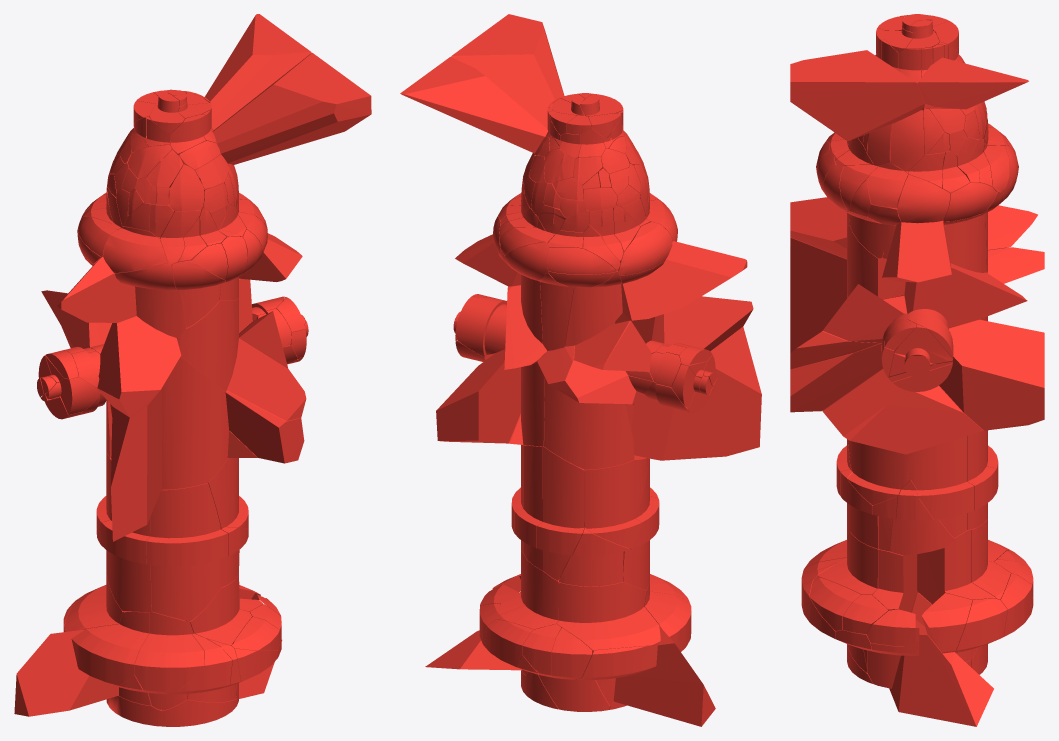
The model's file is FireHydrantCellFracture.fbx.
3 renders of one model, left to right at view 1: azimuth 30°, elevation 25°; view 2: azimuth 150°, elevation 25°; view 3: azimuth 270°, elevation 25°, orthographic. The views are drawn at different scales.
Visible parts, largest first — view 1: FireHyrdrant_cell.087, FireHyrdrant_cell.028, FireHyrdrant_cell.067, FireHyrdrant_cell.190, FireHyrdrant_cell.183, FireHyrdrant_cell.144, FireHyrdrant_cell.181, FireHyrdrant_cell.008, FireHyrdrant_cell.142, FireHyrdrant_cell.041, FireHyrdrant_cell.117, FireHyrdrant_cell.105 (+38 smaller); view 2: FireHyrdrant_cell.190, FireHyrdrant_cell.087, FireHyrdrant_cell.144, FireHyrdrant_cell.011, FireHyrdrant_cell.044, FireHyrdrant_cell.009, FireHyrdrant_cell.178, FireHyrdrant_cell.181, FireHyrdrant_cell.168, FireHyrdrant_cell.176, FireHyrdrant_cell.183, FireHyrdrant_cell.012 (+37 smaller); view 3: FireHyrdrant_cell.044, FireHyrdrant_cell.087, FireHyrdrant_cell.119, FireHyrdrant_cell.065, FireHyrdrant_cell.190, FireHyrdrant_cell.046, FireHyrdrant_cell.063, FireHyrdrant_cell.124, FireHyrdrant_cell.144, FireHyrdrant_cell.022, FireHyrdrant_cell.127, FireHyrdrant_cell.131 (+56 smaller).
Part boxes in pixels (x1,y1,x2,y2): FireHyrdrant_cell.087: (212, 53, 371, 164); FireHyrdrant_cell.028: (146, 483, 227, 621); FireHyrdrant_cell.067: (162, 357, 229, 489); FireHyrdrant_cell.190: (111, 388, 161, 541); FireHyrdrant_cell.183: (95, 316, 181, 417); FireHyrdrant_cell.144: (205, 14, 311, 131); FireHyrdrant_cell.181: (14, 629, 118, 716); FireHyrdrant_cell.008: (134, 611, 204, 693); FireHyrdrant_cell.142: (71, 612, 149, 685); FireHyrdrant_cell.041: (227, 338, 306, 421); FireHyrdrant_cell.117: (176, 298, 238, 391); FireHyrdrant_cell.105: (97, 517, 151, 612); FireHyrdrant_cell.190: (631, 326, 761, 460); FireHyrdrant_cell.087: (451, 14, 564, 128); FireHyrdrant_cell.144: (400, 57, 547, 153); FireHyrdrant_cell.011: (544, 378, 634, 469); FireHyrdrant_cell.044: (436, 349, 520, 443); FireHyrdrant_cell.009: (557, 581, 660, 650); FireHyrdrant_cell.178: (620, 241, 747, 320); FireHyrdrant_cell.181: (613, 626, 715, 726); FireHyrdrant_cell.168: (537, 447, 584, 580); FireHyrdrant_cell.176: (585, 455, 648, 548); FireHyrdrant_cell.183: (615, 296, 753, 351); FireHyrdrant_cell.012: (537, 345, 636, 404); FireHyrdrant_cell.044: (939, 319, 1044, 430); FireHyrdrant_cell.087: (790, 50, 924, 140); FireHyrdrant_cell.119: (822, 368, 983, 454); FireHyrdrant_cell.065: (889, 620, 993, 726); FireHyrdrant_cell.190: (790, 237, 846, 352); FireHyrdrant_cell.046: (910, 436, 974, 537); FireHyrdrant_cell.063: (904, 263, 1027, 327); FireHyrdrant_cell.124: (790, 343, 882, 412); FireHyrdrant_cell.144: (917, 57, 1028, 109); FireHyrdrant_cell.022: (882, 220, 951, 282); FireHyrdrant_cell.127: (918, 529, 996, 604); FireHyrdrant_cell.131: (847, 440, 910, 505).
Size of the model in its own units: 152 by 325 by 114.
